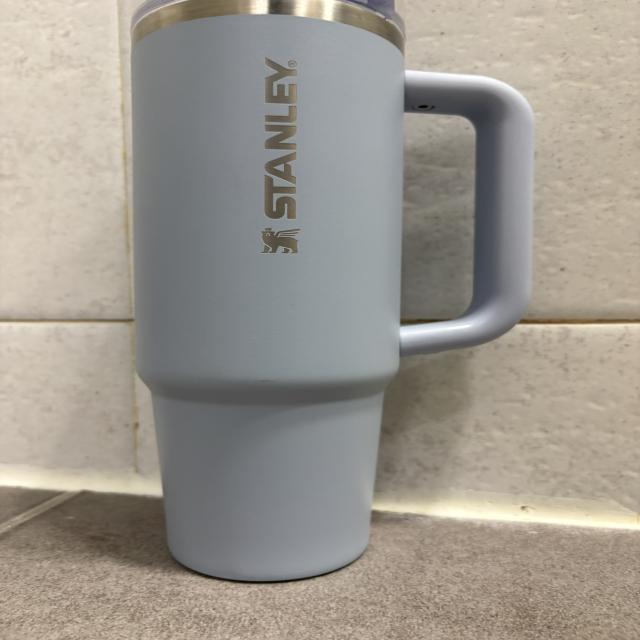waterbottle: (134, 0, 530, 582)
